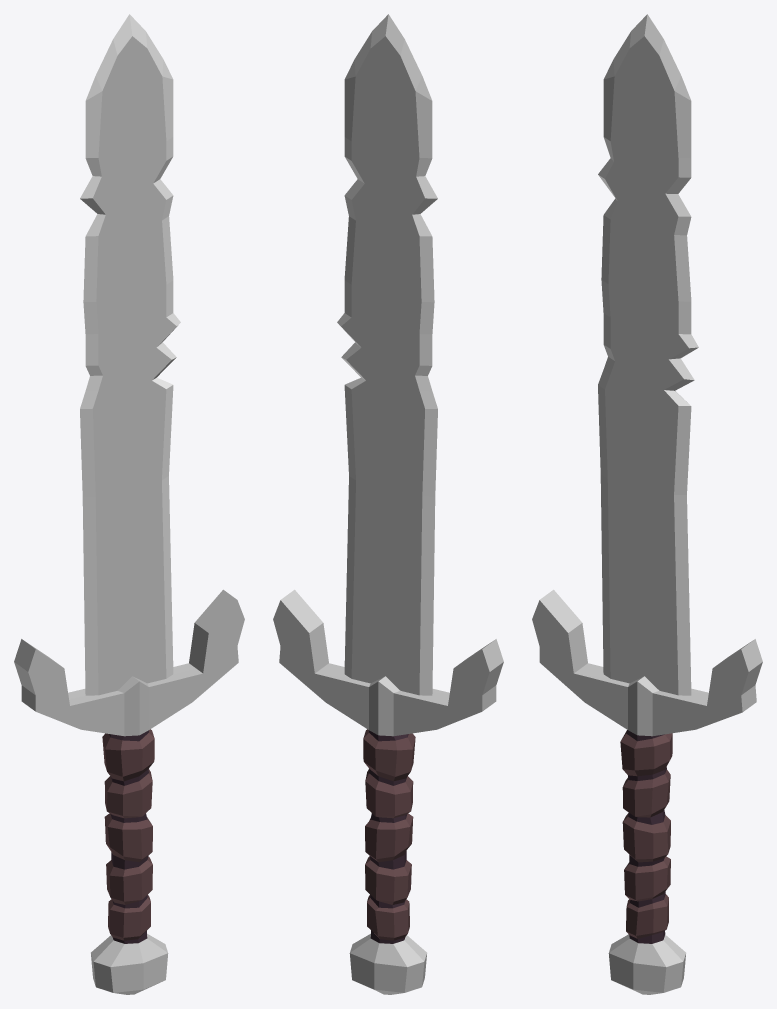
The model's file is q_sword.glb.
3 renders of one model, left to right at view 1: azimuth 30°, elevation 25°; view 2: azimuth 150°, elevation 25°; view 3: azimuth 330°, elevation 25°, orthographic.
Visible parts, largest first — view 1: Sword; view 2: Sword; view 3: Sword.
Boxes of the visible parts, box(x1,y1,x2,y2) form: Sword: box(14, 14, 244, 994); Sword: box(273, 14, 503, 994); Sword: box(532, 14, 762, 994).
Bounding box in the file's own units: 0.2672 × 1.15 × 0.0611.
